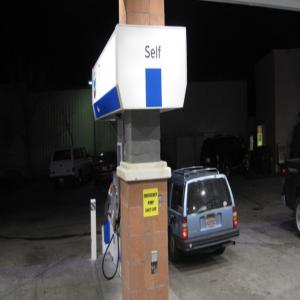Vehicle-registration-plate: (205, 217, 217, 230)
